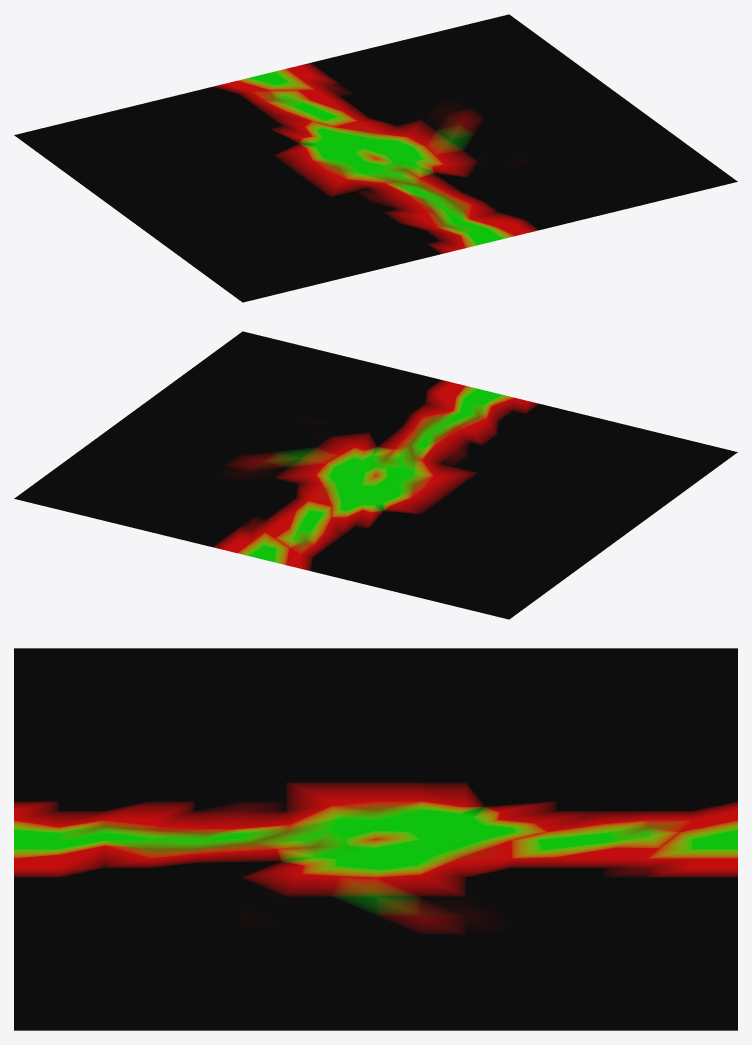
File: Section_MiniBossWayLine01_Forest_Terrain.fbx
3 renders of one model, top to bottom at view 1: azimuth 30°, elevation 25°; view 2: azimuth 150°, elevation 25°; view 3: azimuth 270°, elevation 25°, orthographic. The views are drawn at different scales.
Parts seen in each view (by area): view 1: Section_MiniBossWayLine01_Forest_Terrain; view 2: Section_MiniBossWayLine01_Forest_Terrain; view 3: Section_MiniBossWayLine01_Forest_Terrain.
Part boxes in pixels (x1,y1,x2,y2): Section_MiniBossWayLine01_Forest_Terrain: (14, 14, 737, 302); Section_MiniBossWayLine01_Forest_Terrain: (14, 331, 737, 619); Section_MiniBossWayLine01_Forest_Terrain: (14, 648, 737, 1030).
Bounding box in the file's own units: 10000 × 0.02 × 8000.
